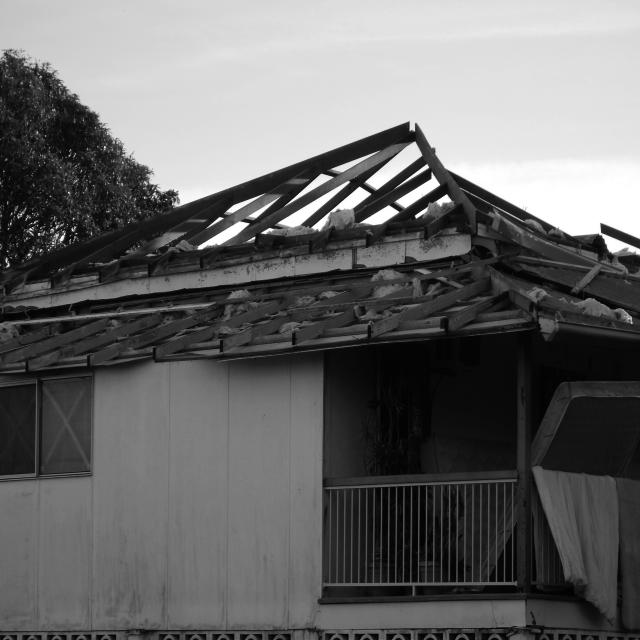Severely_Damaged: (15, 91, 636, 303)
